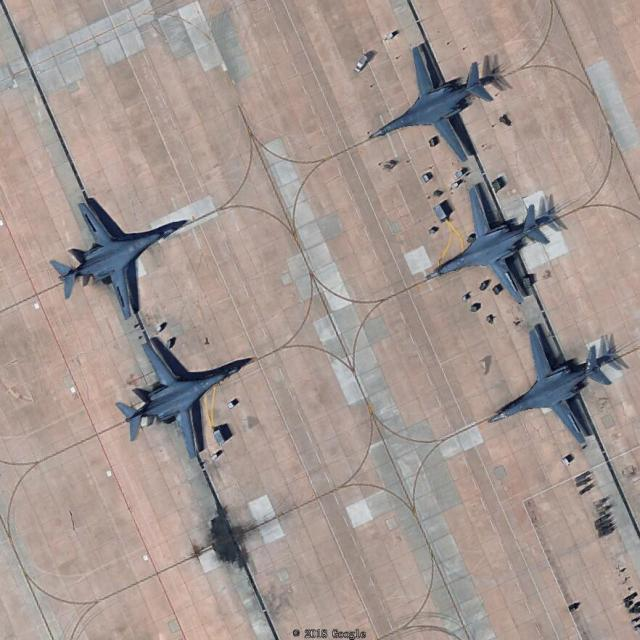fighter jet: (47, 196, 188, 322), (489, 322, 612, 459), (426, 175, 554, 304), (378, 38, 498, 166), (131, 334, 245, 464)
